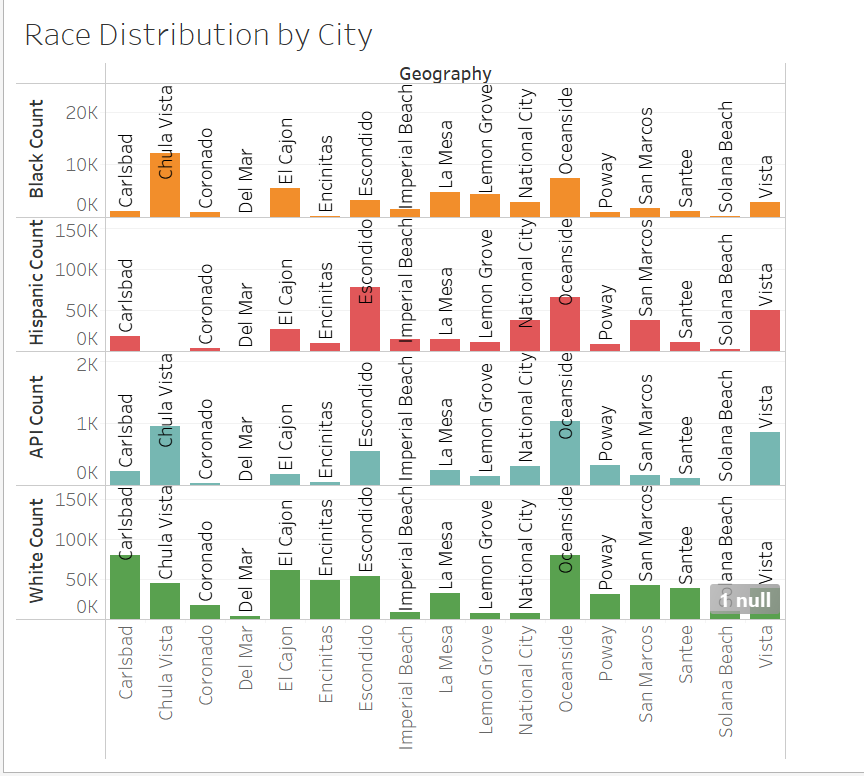

The page's visual inventory and layout, read from the dashboard file:
{"tool":"tableau","page":{"name":"Race Count & Geography","canvas":[1000,800],"ordinal":0},"visuals":[{"type":"worksheet","title":"White Count & Geography","mark":"Automatic","rows":["White Count"],"cols":["Geography"],"box":[8,8,492,392]},{"type":"worksheet","title":"Black Count & Geography","mark":"Automatic","rows":["Black Count"],"cols":["Geography"],"box":[500,8,492,392]},{"type":"worksheet","title":"Hispanic Count & Geography ","mark":"Automatic","rows":["Hispanic Count"],"cols":["Geography"],"box":[8,400,492,392]},{"type":"worksheet","title":"API & Geography ","mark":"Automatic","rows":["API Count"],"cols":["Geography"],"box":[500,400,492,392]}]}

Visuals, with their boxes on the page's 1000x800 design canvas (x1, y1, x2, y2). These are canvas units, not pixel positions in the 864x776 screenshot, which may show the page scaled, cropped or inside an application window:
"White Count & Geography" worksheet: locate(8, 8, 500, 400)
"Black Count & Geography" worksheet: locate(500, 8, 992, 400)
"Hispanic Count & Geography " worksheet: locate(8, 400, 500, 792)
"API & Geography " worksheet: locate(500, 400, 992, 792)
